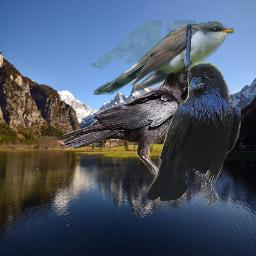Crow: (57, 63, 227, 177), (147, 62, 241, 205)
Cuckoo: (91, 20, 234, 95)
